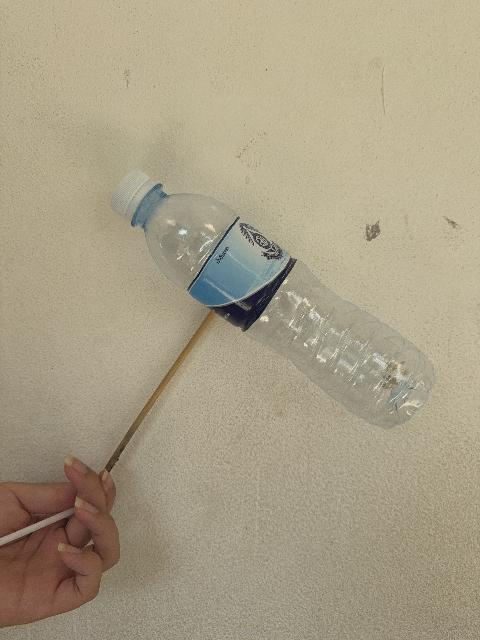bottle: (111, 171, 434, 428)
